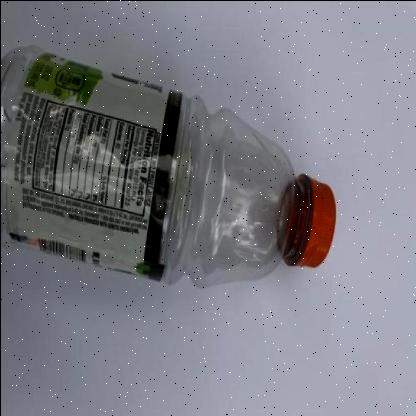Plastic Bottle: (0, 46, 334, 286)
